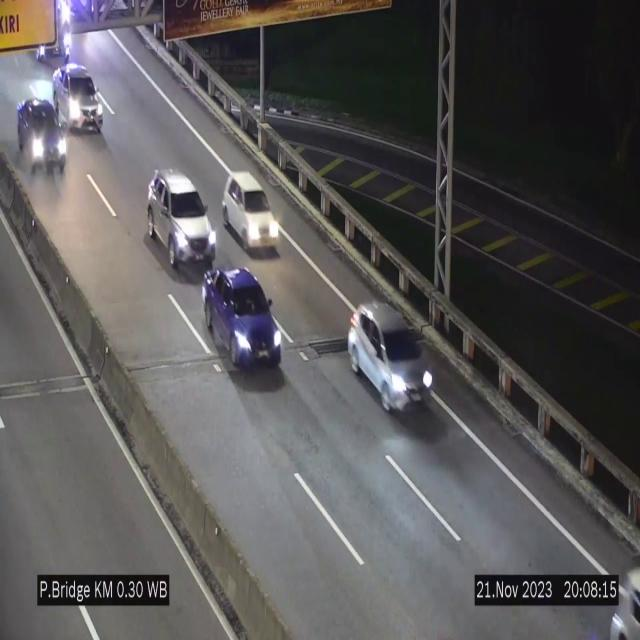Car: (347, 304, 435, 411), (202, 268, 282, 368), (147, 168, 216, 269), (15, 96, 72, 186), (222, 172, 280, 254), (52, 59, 108, 140)
